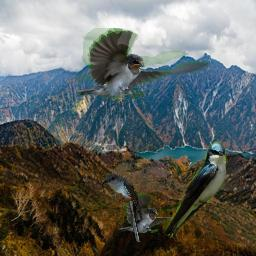Cuckoo: (101, 173, 143, 242)
Swallow: (76, 28, 210, 99), (163, 141, 229, 241), (119, 193, 195, 233)
